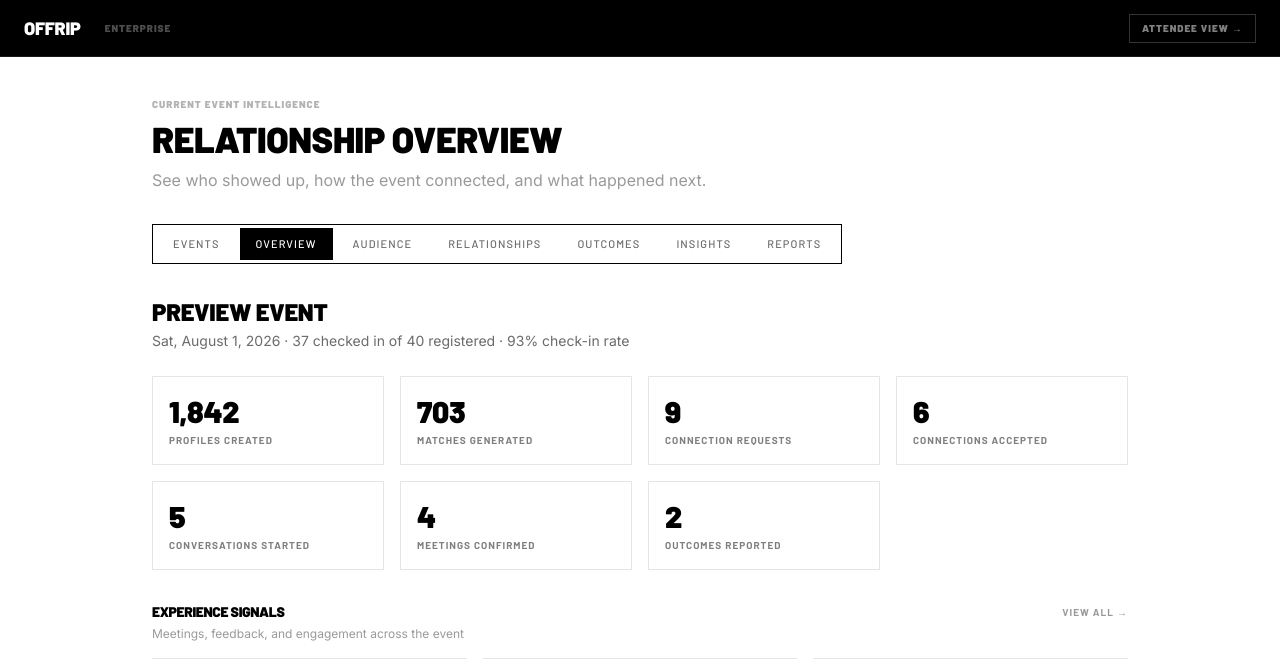
Test: OrganizerAdmin — enterprise tabs › moves the create form and an all-events management list into the Events tab
Expected: the text "PROFILES CREATED" is shown, [169,434,273,446]
Press the mouse on the tab "Events" at (196, 244), box [157,228,236,260]
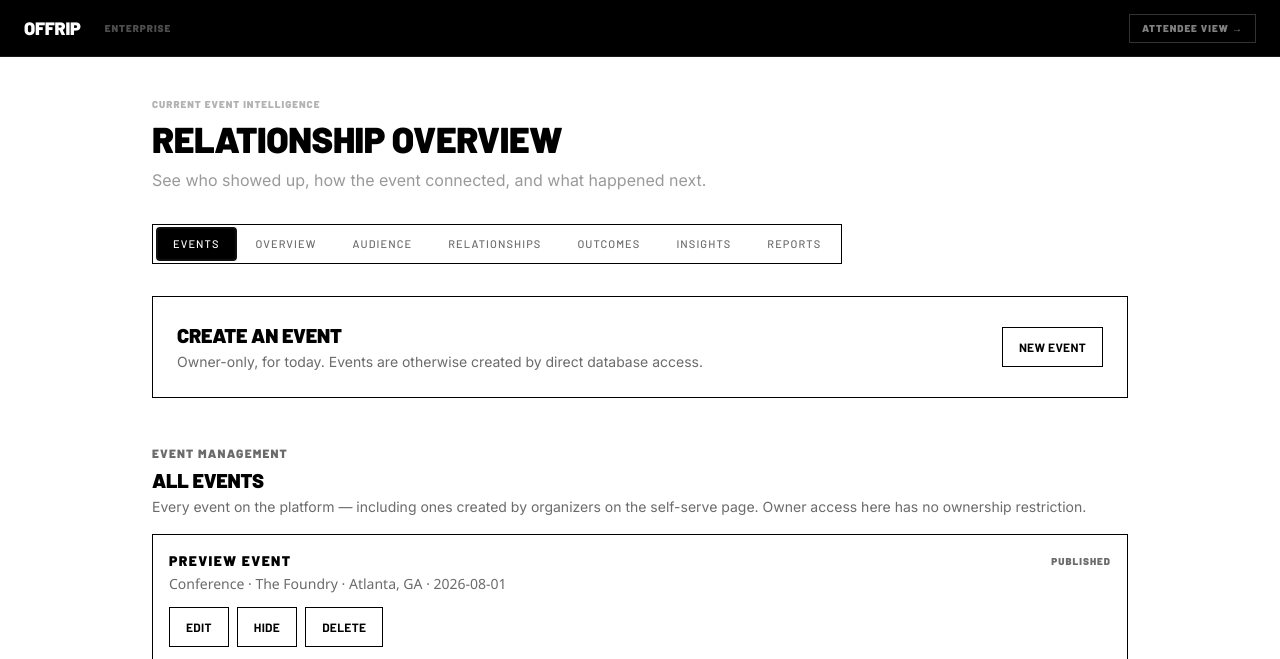
Expected: the heading "Create an event" is shown, [177,323,342,347]
Expected: the button "New event" is shown, [1002,327,1103,367]
Expected: the heading "All events" is shown, [152,468,264,492]
